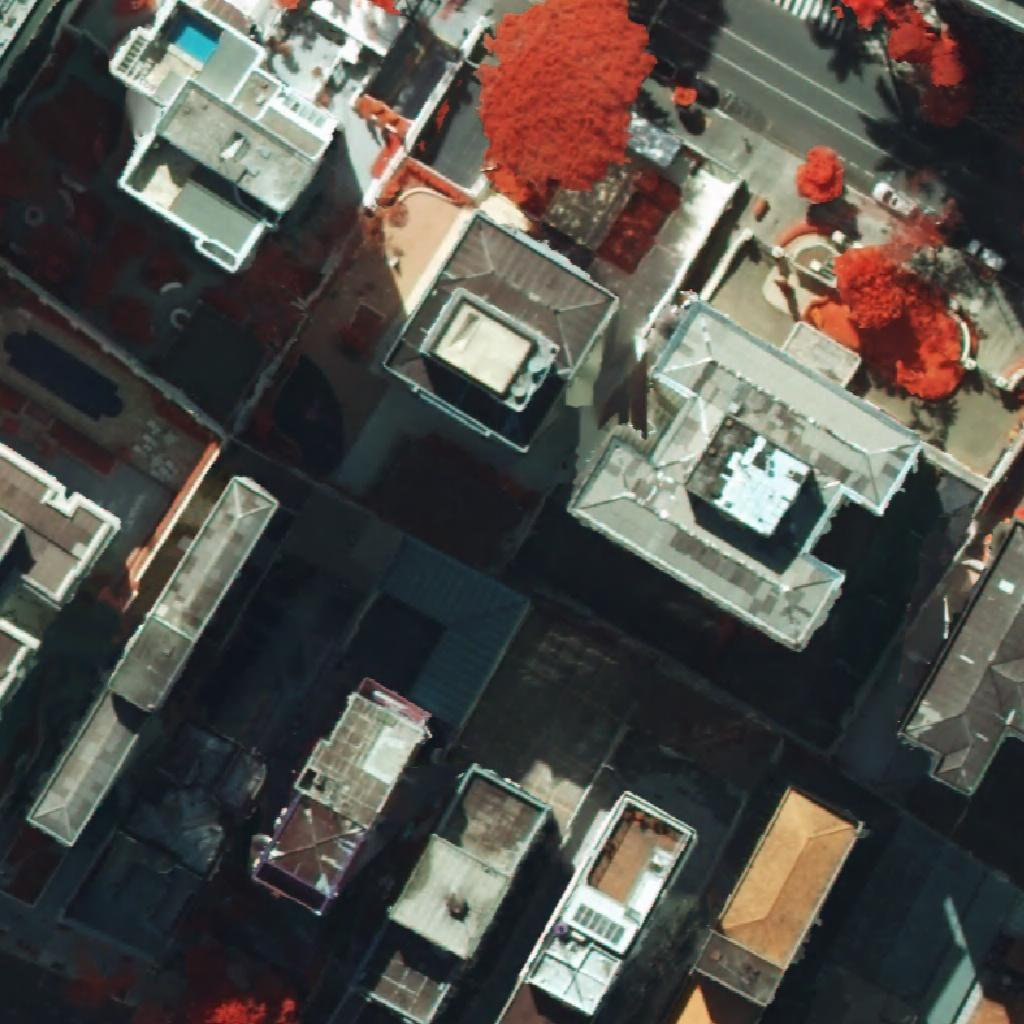pool: (4, 330, 123, 422), (167, 14, 221, 65)
